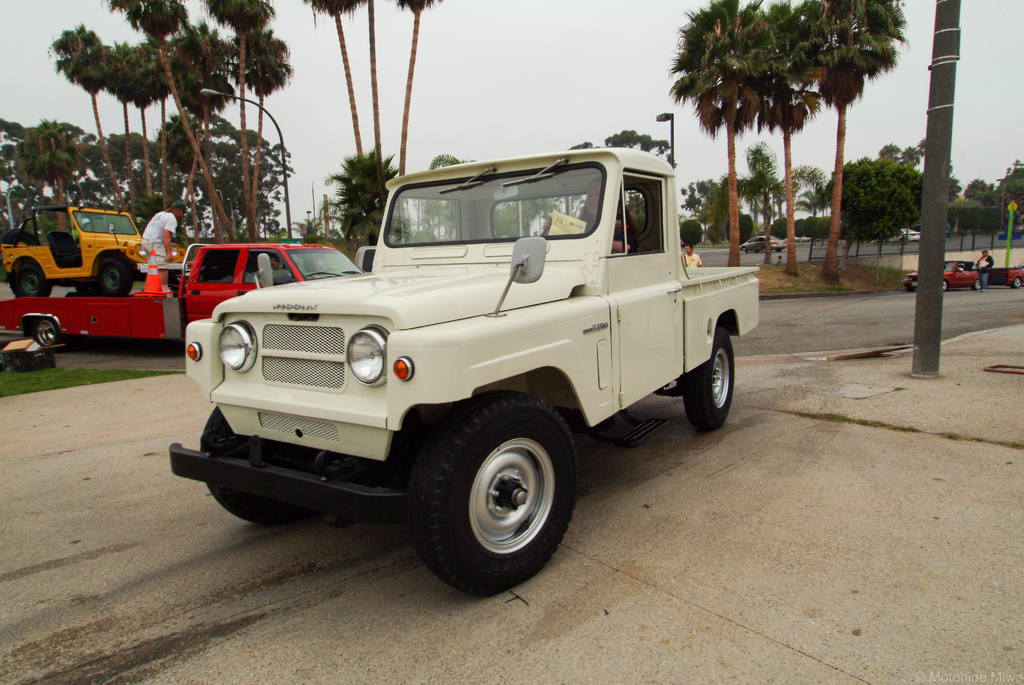Car: (903, 263, 984, 289), (881, 226, 923, 244), (741, 236, 787, 250)
